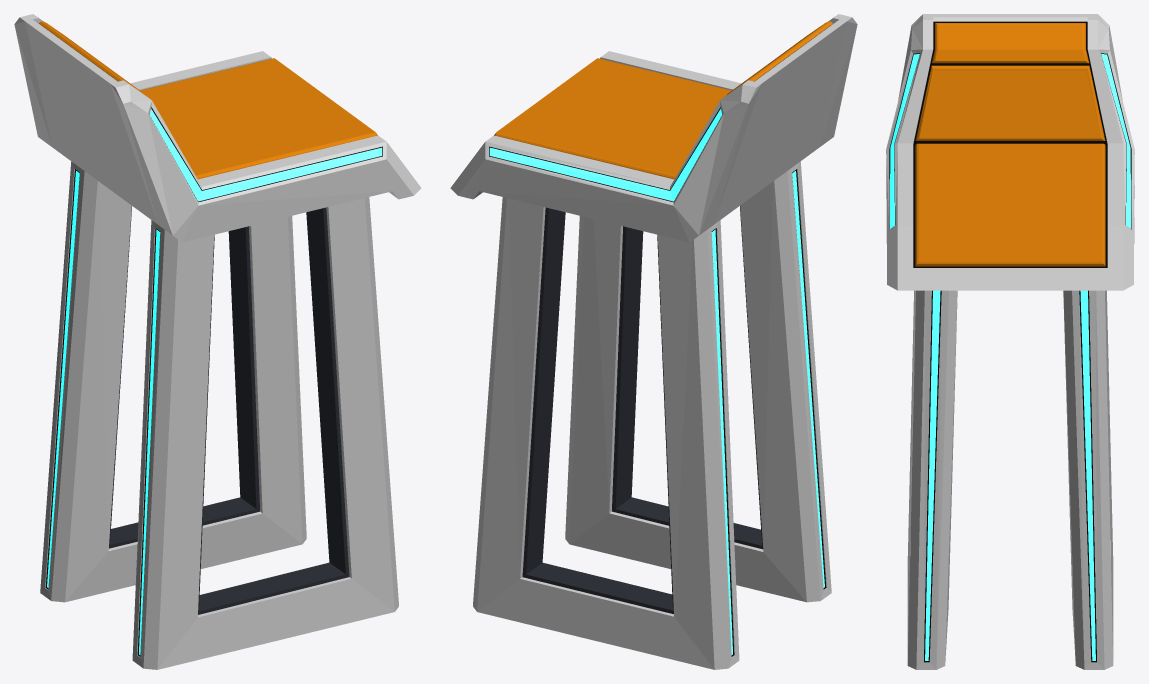
The model's file is stool.glb.
3 views of the same model, side by side, from view 1: azimuth 30°, elevation 25°; view 2: azimuth 150°, elevation 25°; view 3: azimuth 270°, elevation 25° (orthographic). The views are drawn at different scales.
Visible parts, largest first — view 1: SM_BarStool; view 2: SM_BarStool; view 3: SM_BarStool.
Part boxes in pixels (x1,y1,x2,y2): SM_BarStool: (14,14,421,669); SM_BarStool: (450,14,857,669); SM_BarStool: (886,14,1134,669).
Bounding box in the file's own units: 0.5106 × 0.9762 × 0.4139.
